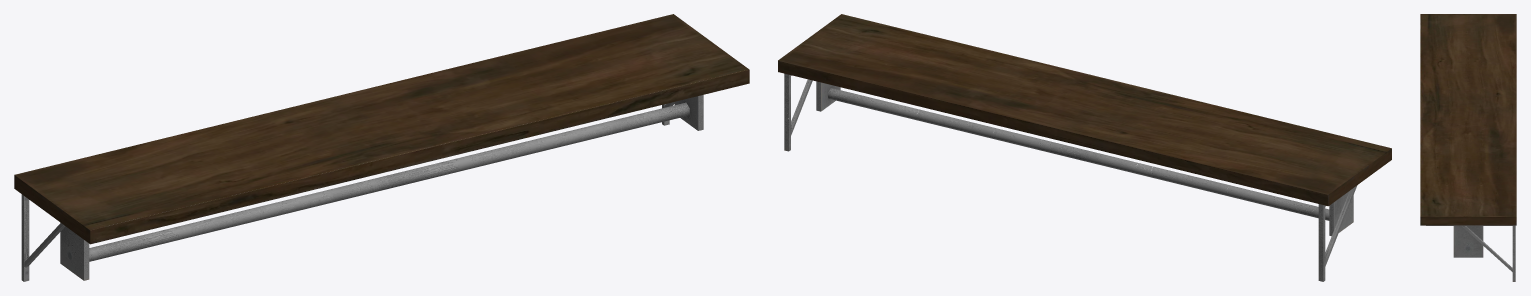
File: sketchfab-clothes-rack-with-hanger.fa34f855.glb
3 renders of one model, left to right at view 1: azimuth 30°, elevation 25°; view 2: azimuth 150°, elevation 25°; view 3: azimuth 270°, elevation 25°, orthographic. The views are drawn at different scales.
Parts seen in each view (by area): view 1: defaultMaterial; view 2: defaultMaterial; view 3: defaultMaterial.
Boxes of the visible parts, <box> form: defaultMaterial: <box>14,14,749,281</box>; defaultMaterial: <box>778,14,1391,281</box>; defaultMaterial: <box>1420,14,1516,281</box>.
Bounding box in the file's own units: 1.67 × 0.2574 × 0.3333.
1 material, 1 textured.
